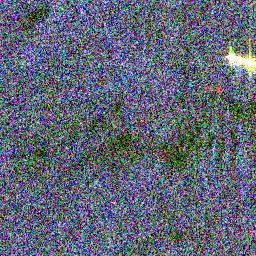Ship: (221, 47, 255, 73)
